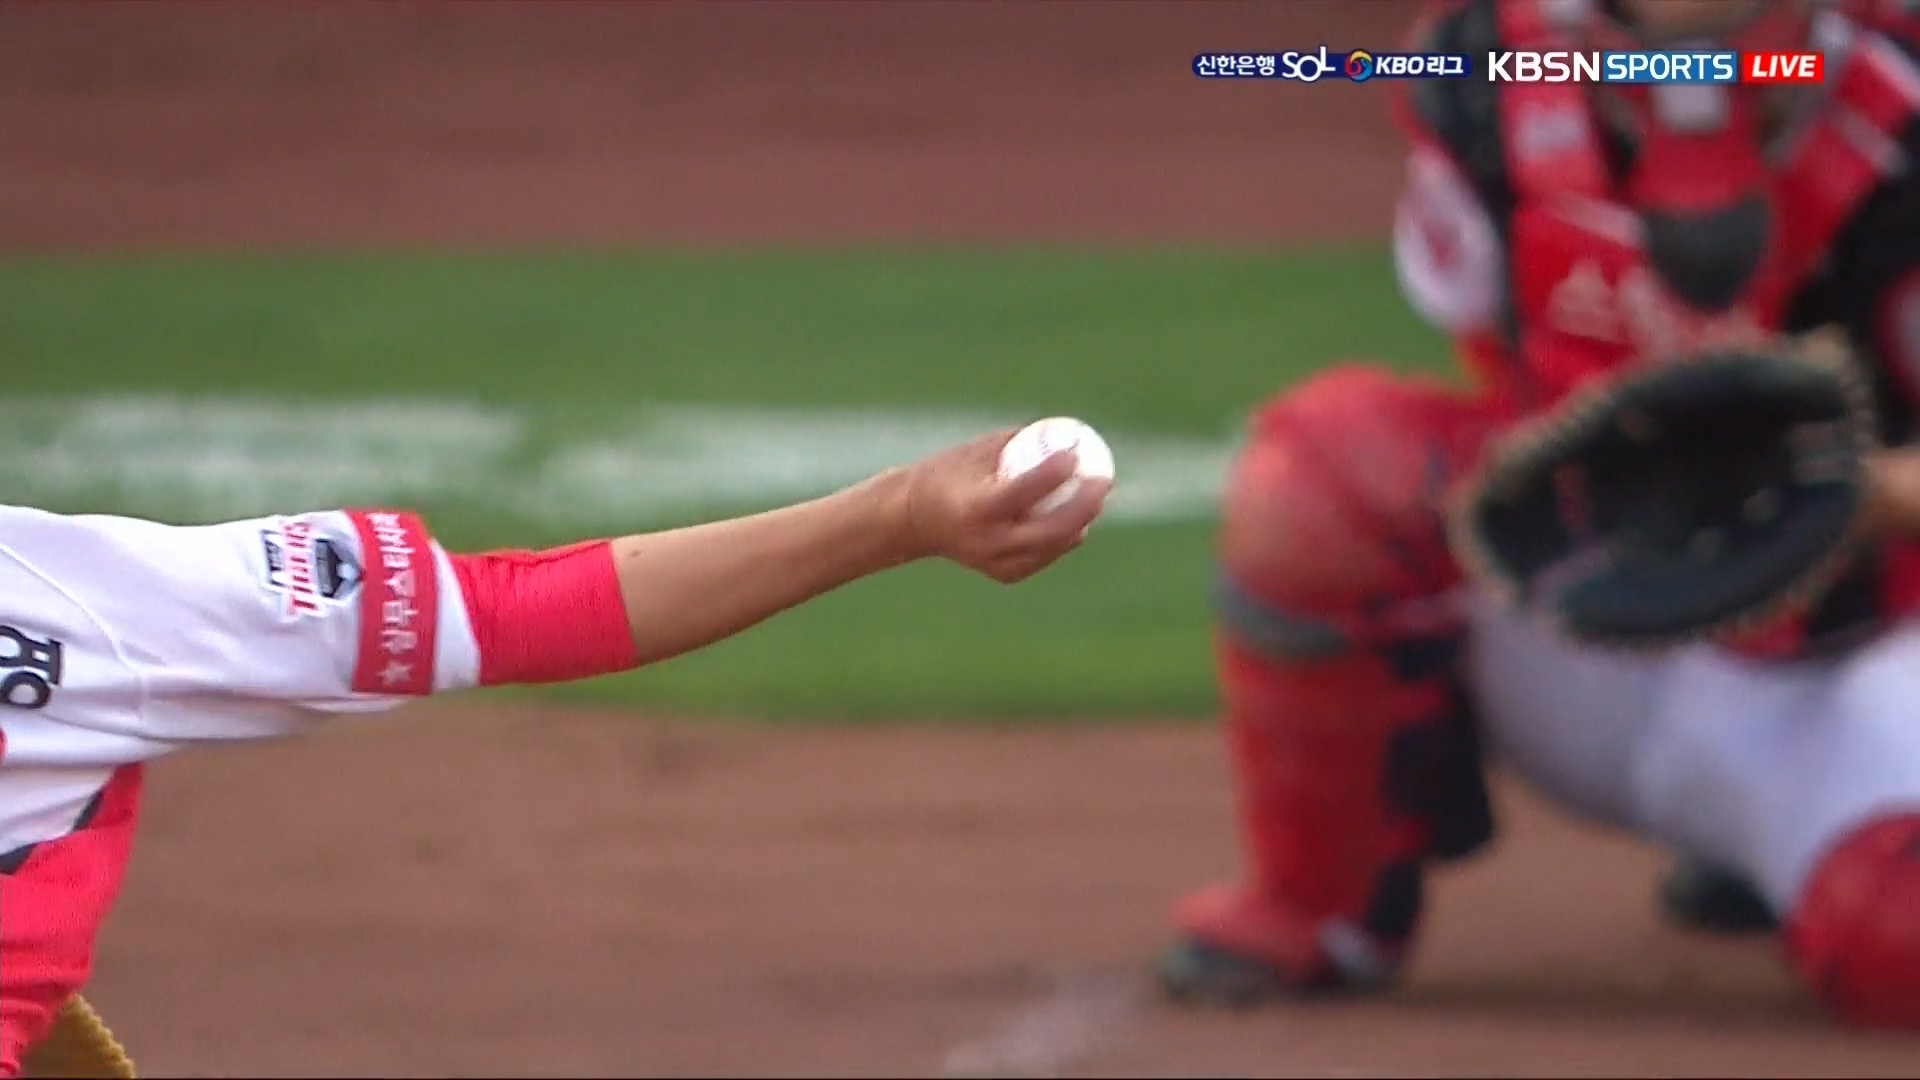zoomin_hand: (447, 389, 1155, 727)
